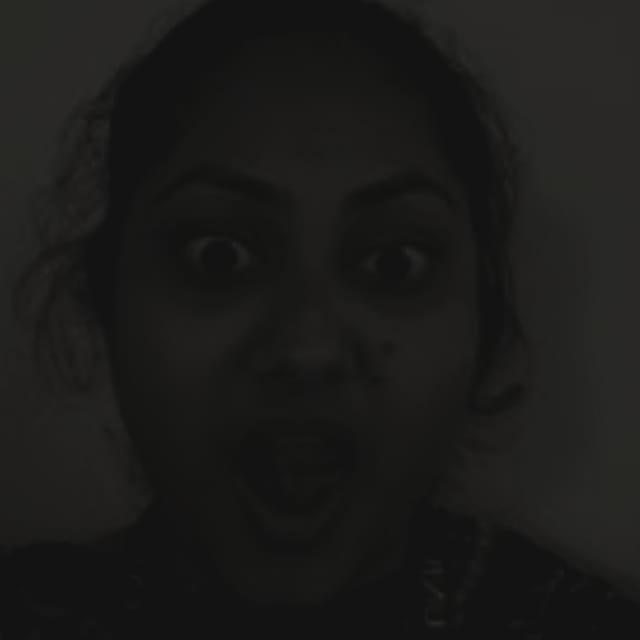Disgust: (64, 114, 506, 596)
